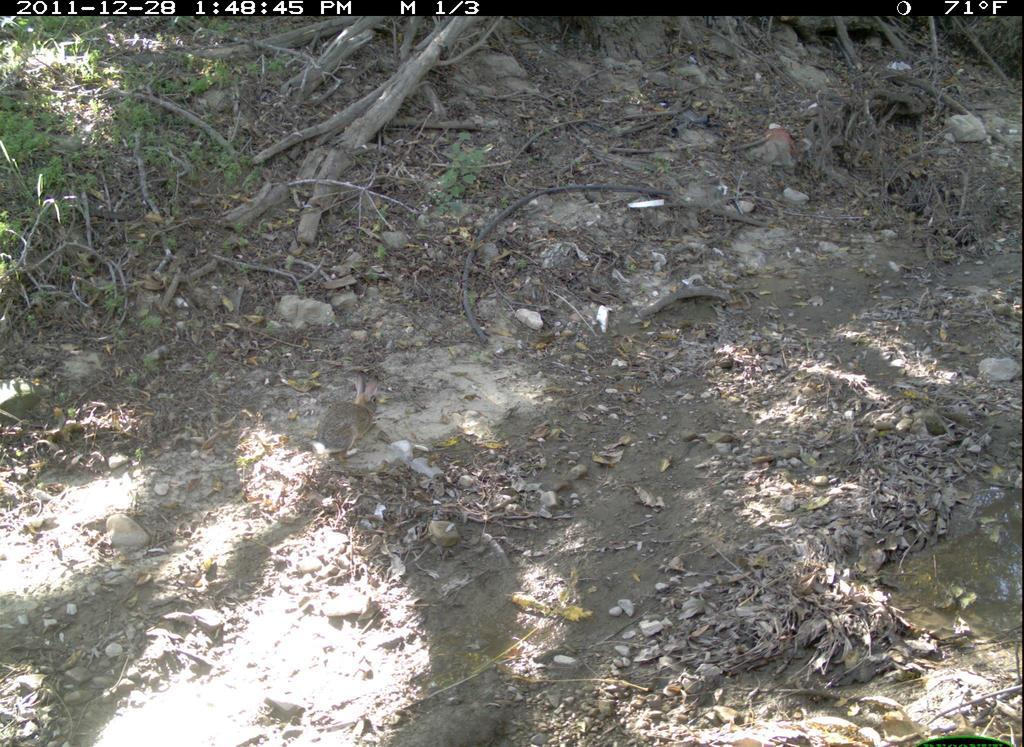rabbit: (308, 368, 388, 463)
